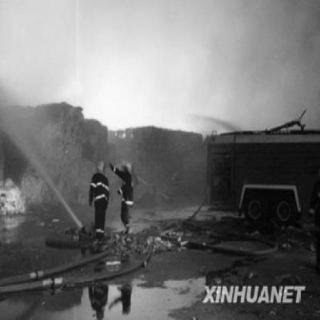Fire: (76, 82, 170, 132)
